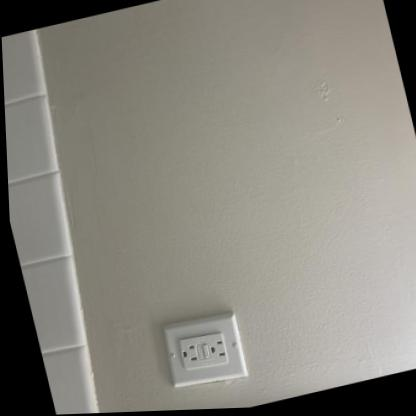OUTLET: (160, 311, 249, 394)
